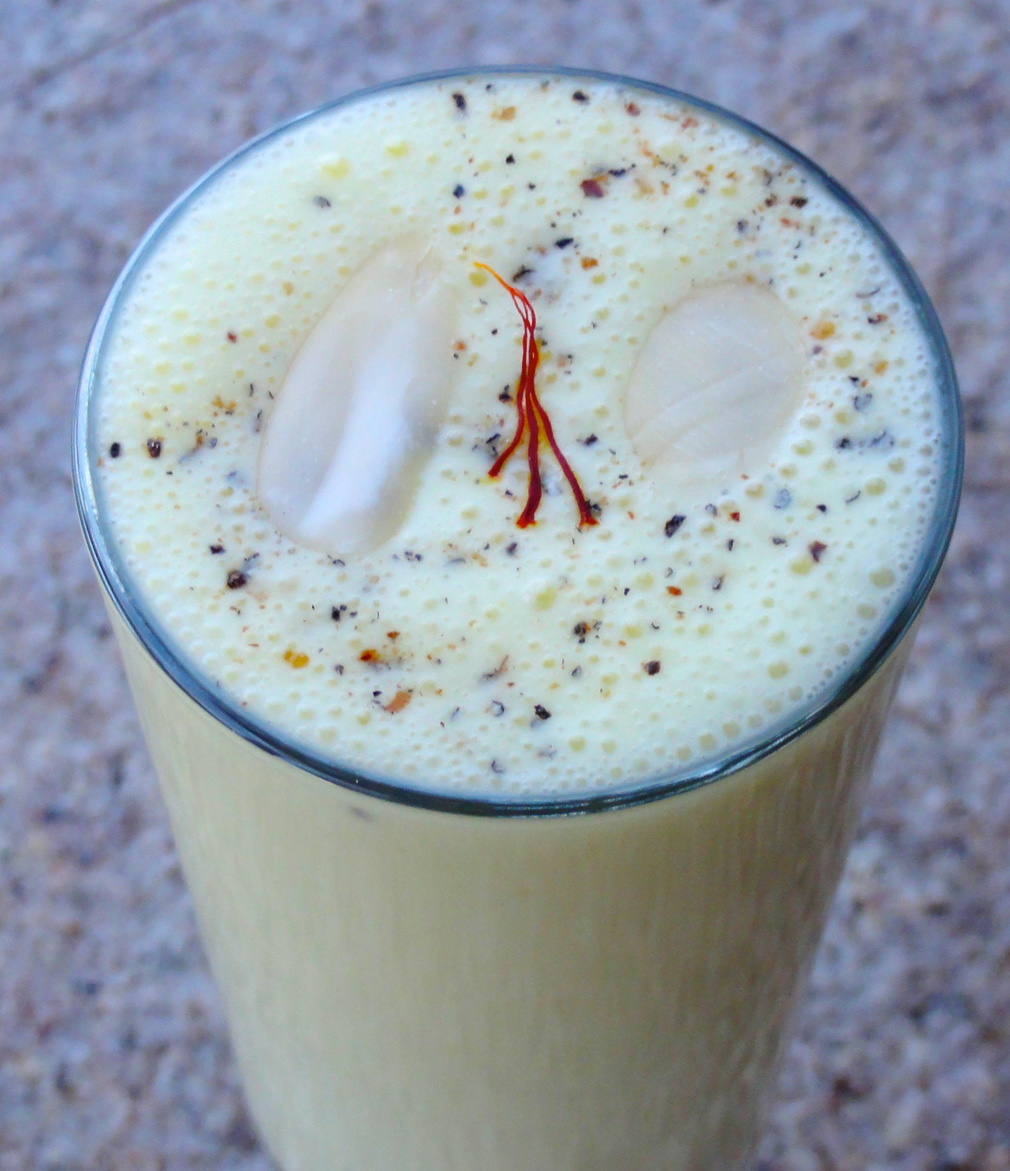Lassi: (89, 74, 951, 1171)
